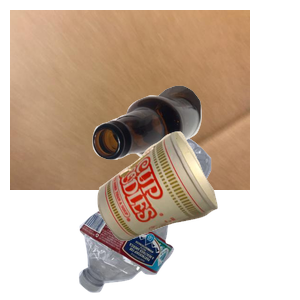cardboard: (10, 10, 250, 190)
glass: (90, 83, 300, 235)
plastic: (76, 131, 280, 300)
trash: (95, 129, 300, 300)
